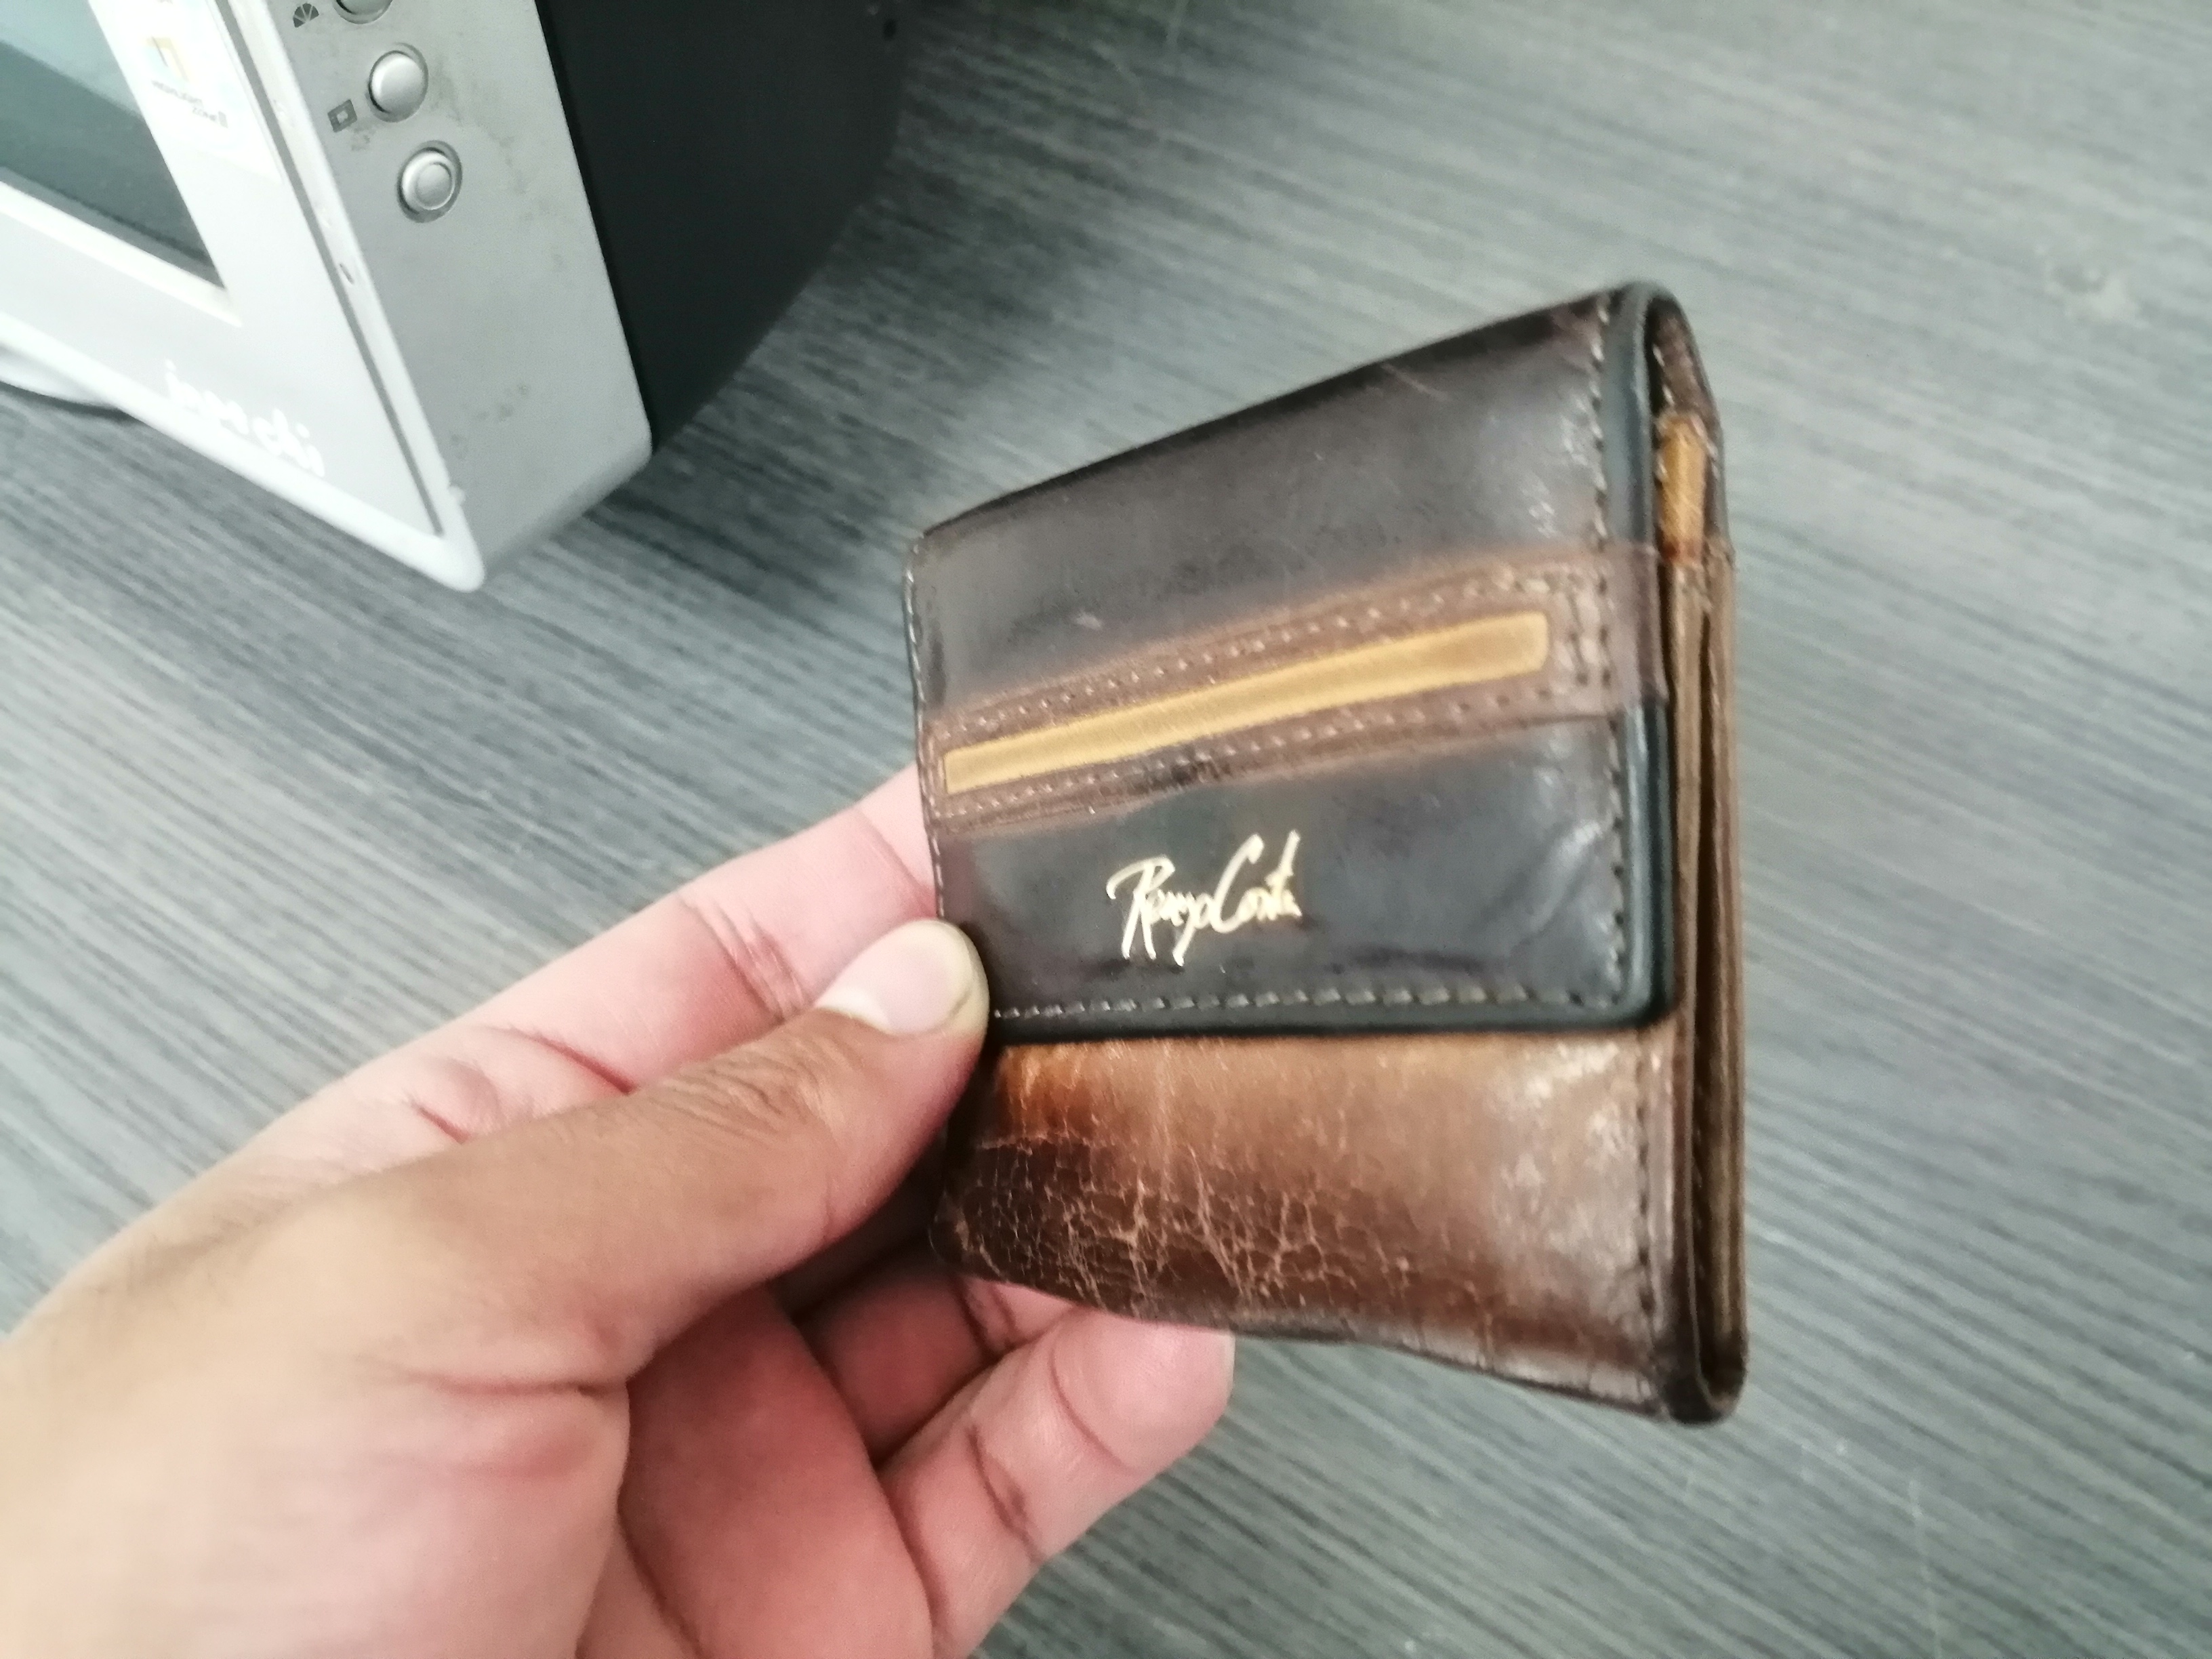monedero: (890, 263, 1775, 1450)
